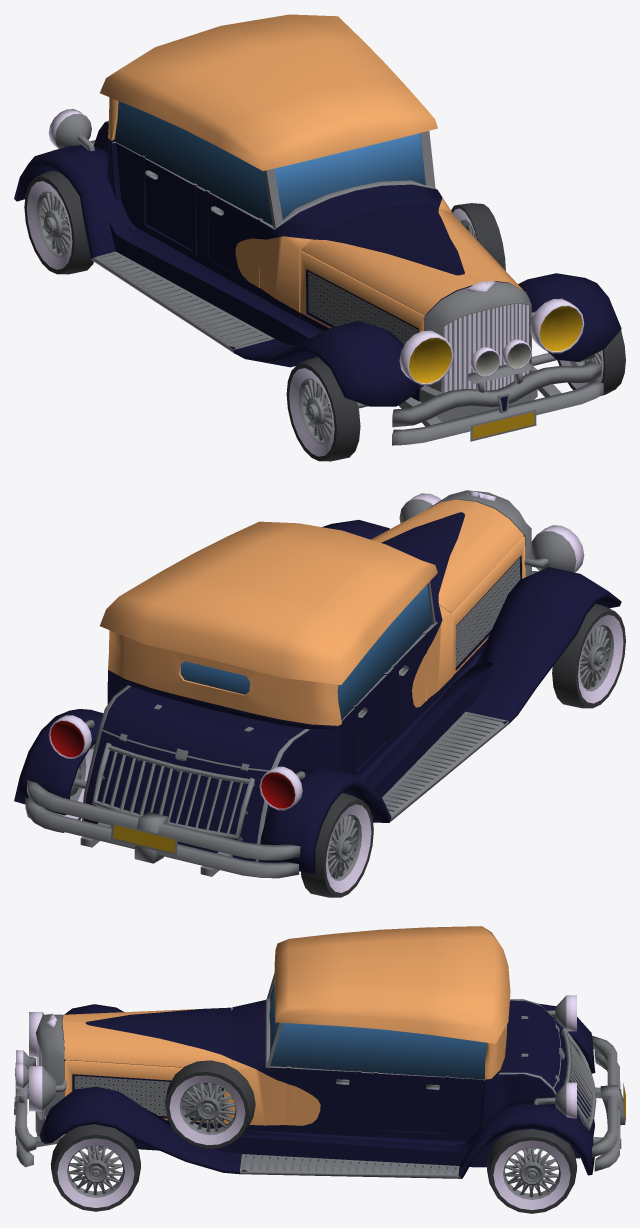
Rendered from Car_6.fbx.
The picture shows the model from 3 angles, top to bottom: view 1: azimuth 30°, elevation 25°; view 2: azimuth 150°, elevation 25°; view 3: azimuth 270°, elevation 25°; orthographic projection. The views are drawn at different scales.
Parts seen in each view (by area): view 1: 6_Car_BaseModel, 6_Windows, 6_Car_FrontRight, 6_Car_BackRight, 6_BackupWheel, 6_Car_FrontLeft; view 2: 6_Car_BaseModel, 6_Car_FrontRight, 6_Windows, 6_Car_BackRight, 6_Car_BackLeft; view 3: 6_Car_BaseModel, 6_Windows, 6_BackupWheel, 6_Car_FrontLeft, 6_Car_BackLeft.
Boxes of the visible parts, x1=… form: 6_Car_BaseModel: x1=14, y1=14, x2=621, y2=445; 6_Windows: x1=114, y1=101, x2=425, y2=225; 6_Car_FrontRight: x1=286, y1=356, x2=360, y2=461; 6_Car_BackRight: x1=24, y1=170, x2=93, y2=274; 6_BackupWheel: x1=451, y1=203, x2=505, y2=270; 6_Car_FrontLeft: x1=557, y1=330, x2=625, y2=395; 6_Car_BaseModel: x1=14, y1=490, x2=621, y2=878; 6_Car_FrontRight: x1=552, y1=603, x2=625, y2=708; 6_Windows: x1=180, y1=584, x2=431, y2=719; 6_Car_BackRight: x1=301, y1=793, x2=373, y2=897; 6_Car_BackLeft: x1=31, y1=743, x2=95, y2=832; 6_Car_BaseModel: x1=14, y1=926, x2=625, y2=1178; 6_Windows: x1=269, y1=982, x2=486, y2=1079; 6_BackupWheel: x1=165, y1=1060, x2=255, y2=1148; 6_Car_FrontLeft: x1=50, y1=1124, x2=140, y2=1211; 6_Car_BackLeft: x1=486, y1=1129, x2=577, y2=1213.
Size of the model in its own units: 299 by 217 by 617.
